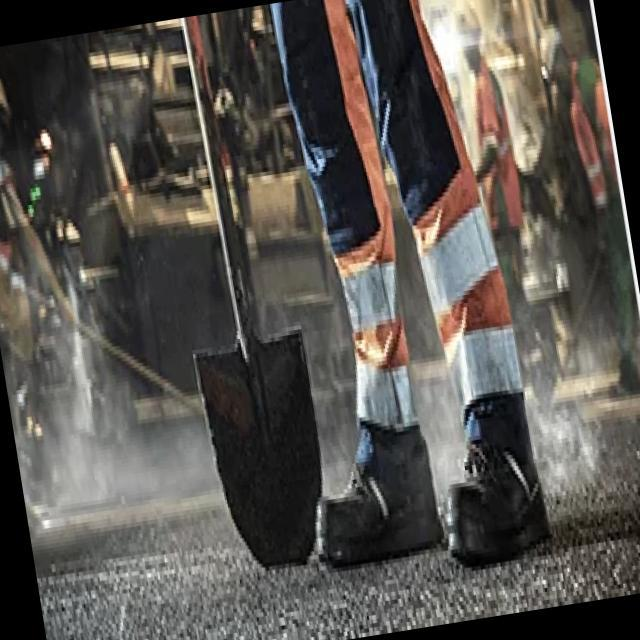shoes: (290, 379, 561, 594)
